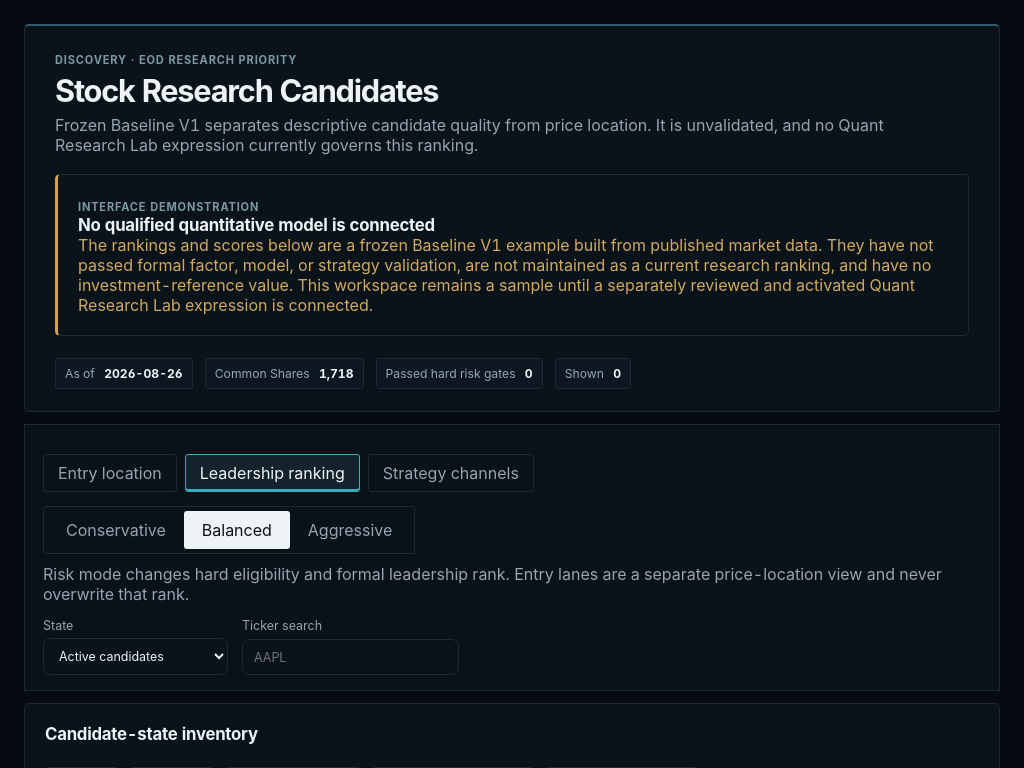
Test case: strategy-channel workspace › keeps research rank visible while all Candidate risk modes reject the trade review
Click the button "Strategy channels". click: coordinates (451, 473)
box: [368,454,534,492]
(page scrolled)
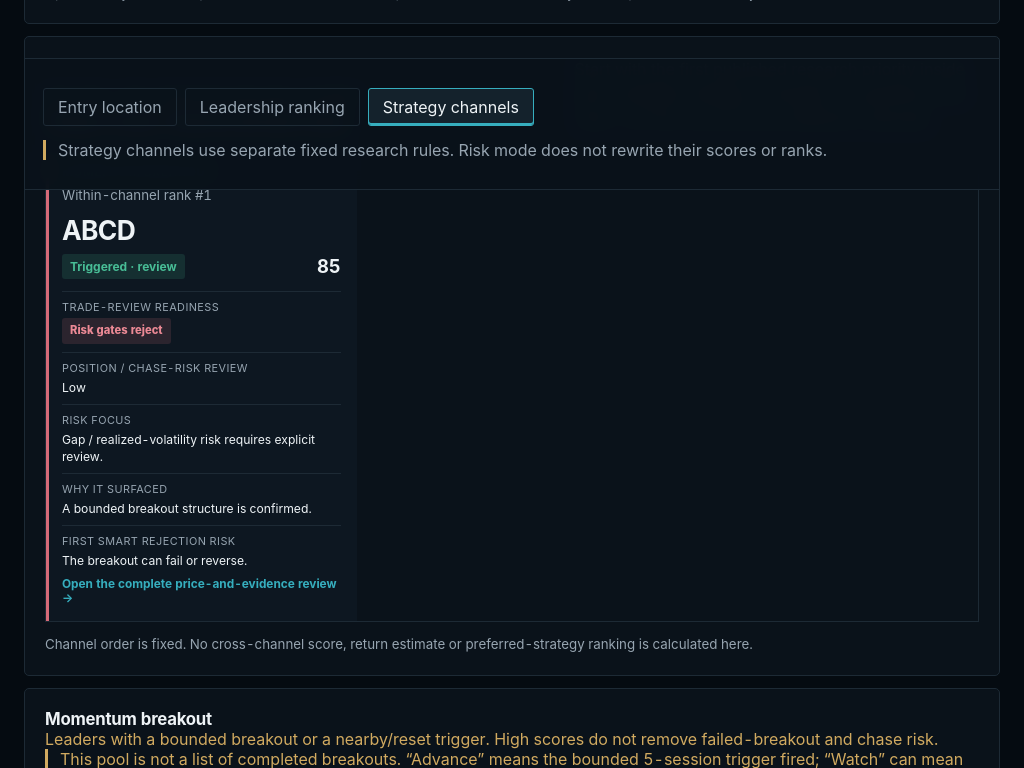
Now the text "Risk gates reject" is shown, box [62,318,171,344]
Now the text "Gap / realized-volatility risk requires explicit review." is shown, box [62,430,341,464]
Click the button "ABCD". click: coordinates (201, 385)
box: [46,149,357,621]
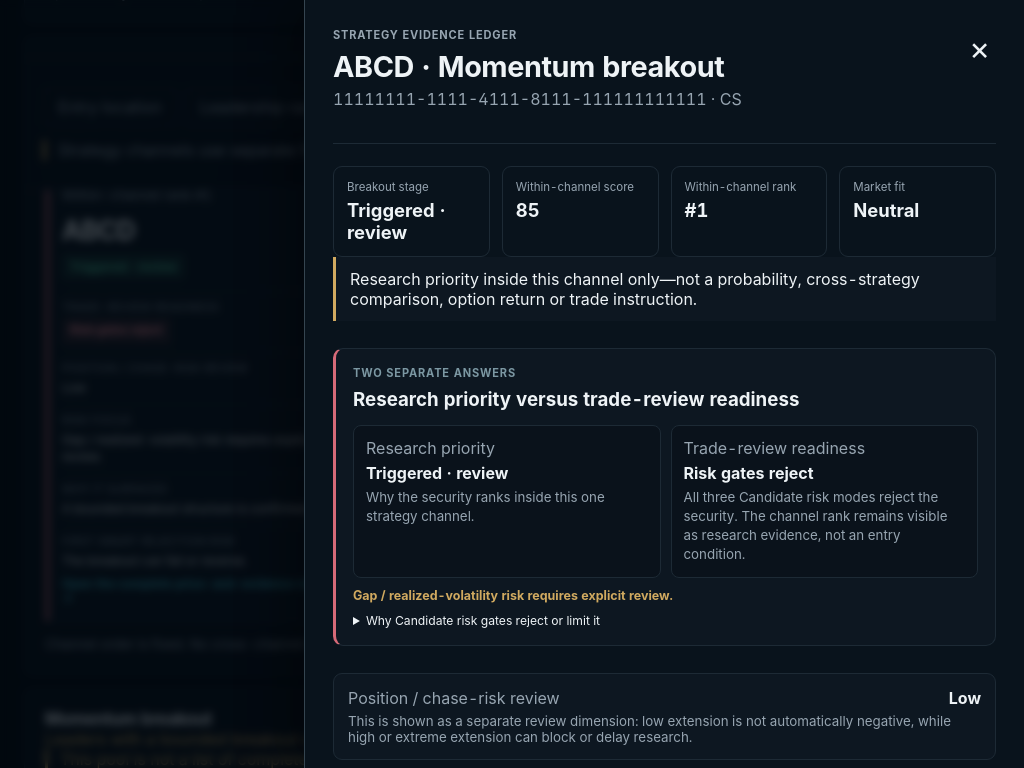
Now the dialog shows "Research priority versus trade-review readiness", box [353,388,799,410]
Now the dialog shows "All three Candidate risk modes reject the security", box [684,488,948,562]
